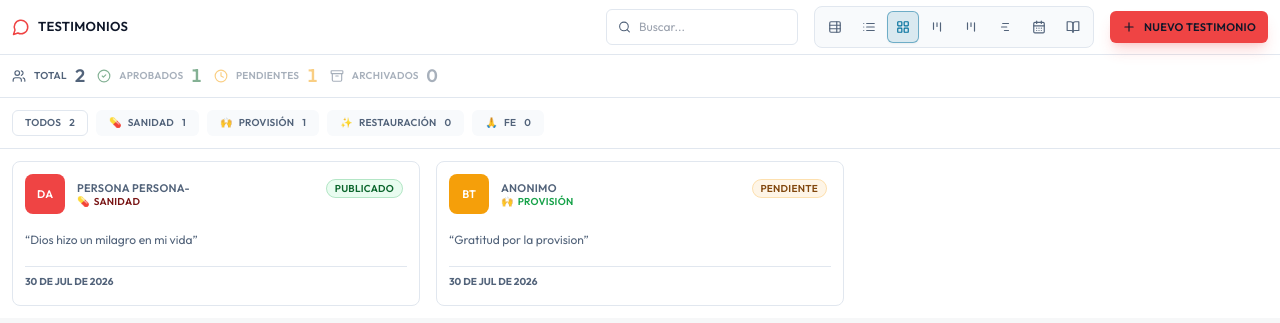
Test: Adversarial Verification & Edge Cases (R1-R6) › R1: Testimonials Page Edge Cases & Modal States › filters testimonials by search input and category pills
Expected: the text "“Dios hizo un milagro en mi vida”" is shown, top-left (25, 232), bottom-right (198, 247)
Type "milagro" into the field with placeholder "Buscar..." at (702, 27), box top-left (606, 9), bottom-right (798, 45)
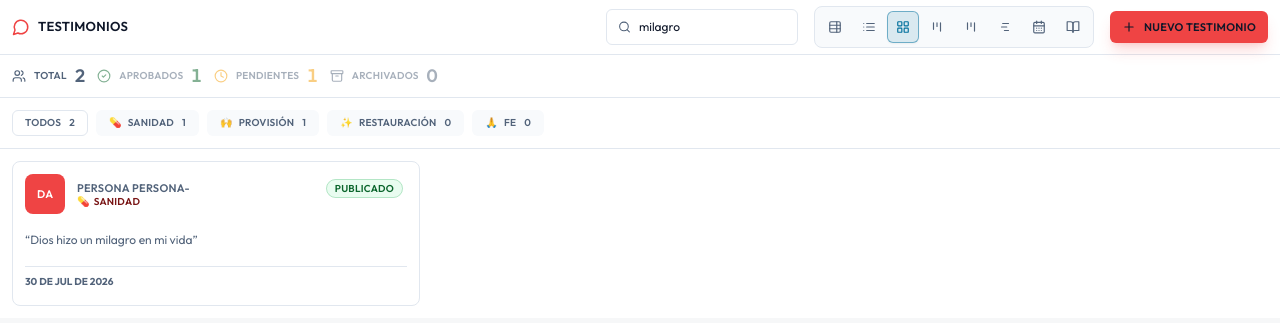
Expected: the text "“Dios hizo un milagro en mi vida”" is shown, top-left (25, 232), bottom-right (198, 247)
Now the text "“Gratitud por la provision”" is gone
Clear the field with placeholder "Buscar..." at (702, 27), box top-left (606, 9), bottom-right (798, 45)
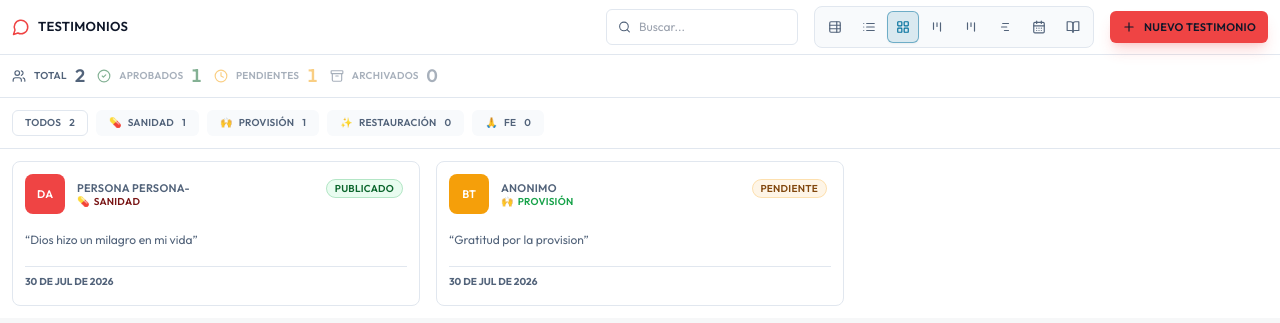
Now the text "“Gratitud por la provision”" is shown, box top-left (449, 232), bottom-right (589, 247)
